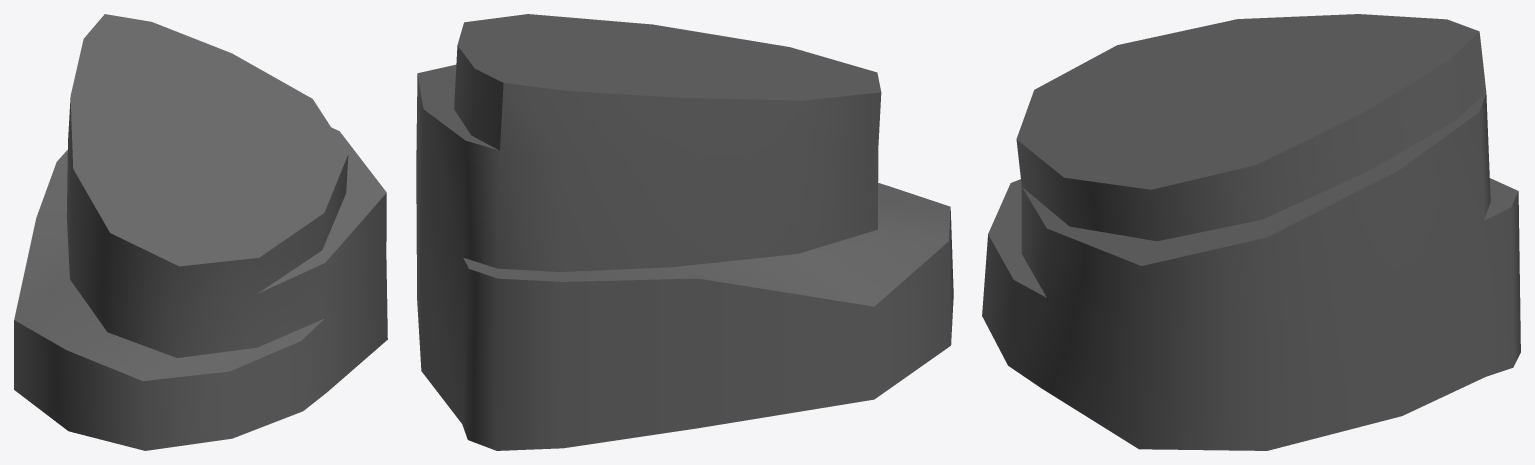
File: StoneSeat02.fbx
3 views of the same model, side by side, from view 1: azimuth 30°, elevation 25°; view 2: azimuth 150°, elevation 25°; view 3: azimuth 270°, elevation 25° (orthographic). The views are drawn at different scales.
Parts seen in each view (by area): view 1: StoneSeat02; view 2: StoneSeat02; view 3: StoneSeat02.
Boxes of the visible parts, box(x1,y1,x2,y2) form: StoneSeat02: box(14, 14, 387, 450); StoneSeat02: box(416, 14, 953, 450); StoneSeat02: box(982, 14, 1520, 450).
Size of the model in its own units: 63.06 by 46.94 by 69.89.
1 material, 1 textured.
